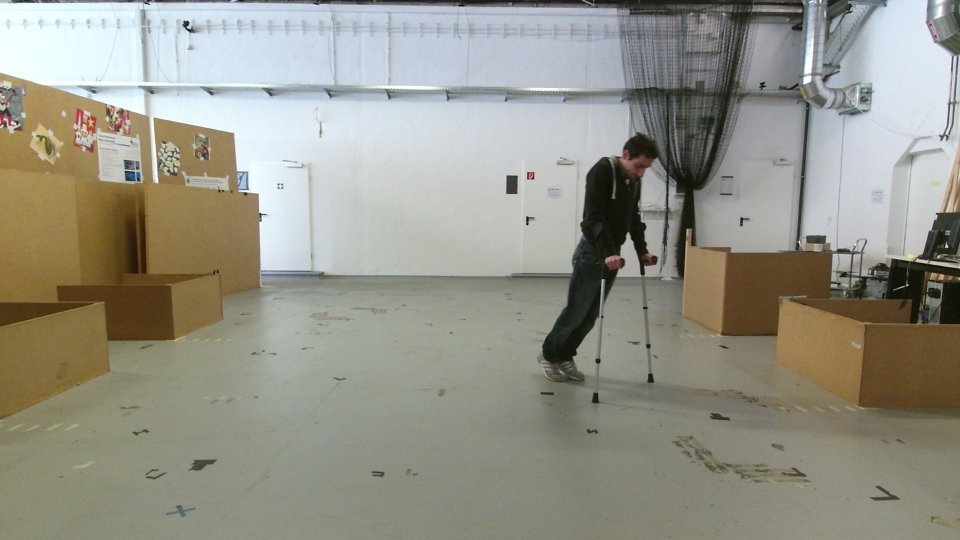crutches: (537, 130, 664, 413)
